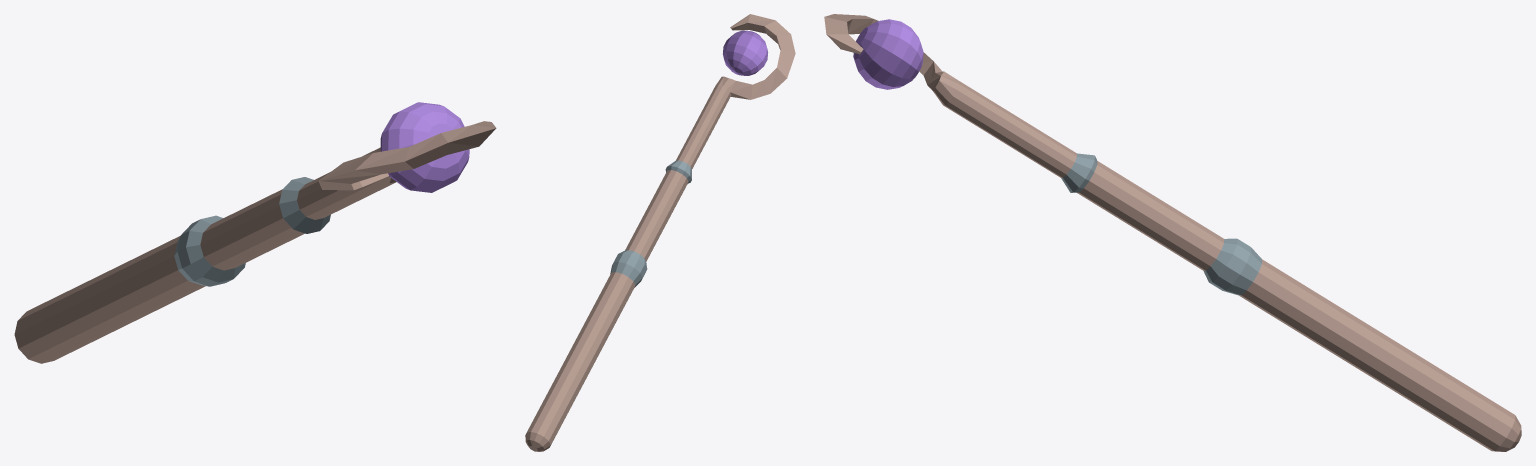
File: wand.glb
3 views of the same model, side by side, from view 1: azimuth 30°, elevation 25°; view 2: azimuth 150°, elevation 25°; view 3: azimuth 270°, elevation 25° (orthographic). The views are drawn at different scales.
Parts seen in each view (by area): view 1: group2096346305, group1762687703; view 2: group2096346305, group1762687703; view 3: group2096346305, group1762687703.
Boxes of the visible parts, x1=… form: group2096346305: x1=14, y1=121, x2=496, y2=363; group1762687703: x1=380, y1=102, x2=469, y2=192; group2096346305: x1=525, y1=14, x2=795, y2=451; group1762687703: x1=723, y1=30, x2=768, y2=75; group2096346305: x1=824, y1=14, x2=1521, y2=451; group1762687703: x1=853, y1=19, x2=923, y2=89.
Bounding box in the file's own units: 0.0375 × 0.1365 × 0.2045.
